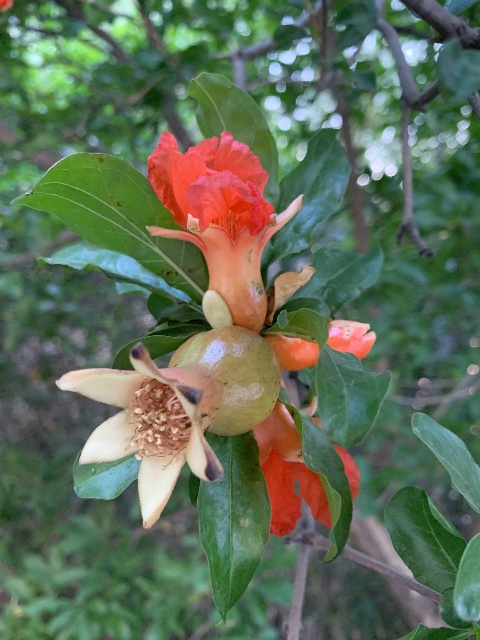bud: (266, 318, 376, 371)
early-fruit: (57, 325, 282, 530)
flower: (141, 125, 304, 333), (249, 397, 359, 536)
